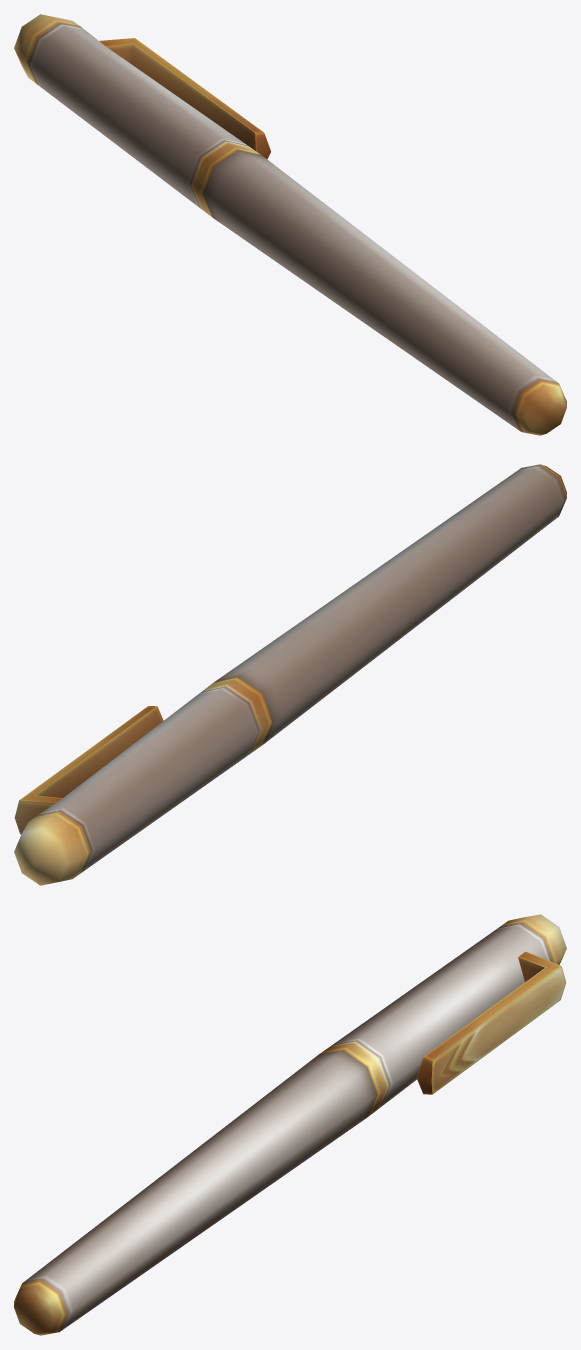
The model's file is ShenFuXiuXiShi_01_gangbi_01.FBX.
The picture shows the model from 3 angles, top to bottom: view 1: azimuth 30°, elevation 25°; view 2: azimuth 150°, elevation 25°; view 3: azimuth 330°, elevation 25°; orthographic projection.
Visible parts, largest first — view 1: ShenFuXiuXiShi_01_gangbi_01; view 2: ShenFuXiuXiShi_01_gangbi_01; view 3: ShenFuXiuXiShi_01_gangbi_01.
Part boxes in pixels (x1,y1,x2,y2): ShenFuXiuXiShi_01_gangbi_01: [14, 14, 566, 435]; ShenFuXiuXiShi_01_gangbi_01: [14, 464, 566, 885]; ShenFuXiuXiShi_01_gangbi_01: [14, 914, 566, 1335].
Bounding box in the file's own units: 15.84 × 11.52 × 147.
